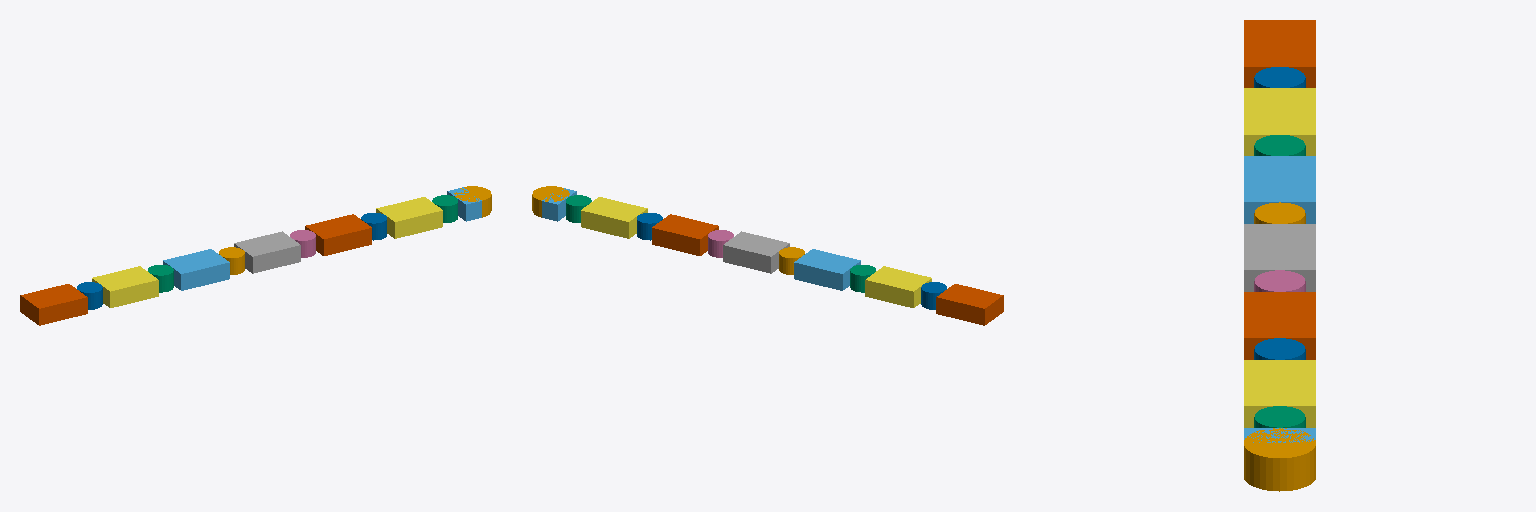
robot.urdf — snake/snake_planar_6_segments:
<?xml version="1.0"?>
<robot name="snake/snake_planar_6_segments">
 <link name="eye">
  <inertial>
    <mass value="1"/>
    <inertia ixx="0.00333333333333" ixy="0" ixz="0" iyy="0.00333333333333" iyz="0" izz="0.0025"/>
  </inertial>
  <visual>
    <origin rpy="0 0 1.57" xyz="0 0 0"/>
    <geometry>
      <cylinder length="0.1" radius="0.1"/>
    </geometry>
  </visual>
  <collision>
    <origin rpy="0 0 1.57" xyz="0 0 0"/>
    <geometry>
      <cylinder length="0.1" radius="0.1"/>
    </geometry>
  </collision>
 </link>

 <link name="body0">
  <inertial>
    <mass value="1"/>
    <inertia ixx="0.00166666666667" ixy="0" ixz="0" iyy="0.00416666666667" iyz="0" izz="0.00416666666667"/>
  </inertial>
  <visual>
    <origin rpy="0 0 0" xyz="0 0 0"/>
    <geometry>
      <box size="0.1 0.2 0.1"/>
    </geometry>
  </visual>
  <collision>
    <origin rpy="0 0 0" xyz="0 0 0"/>
    <geometry>
      <box size="0.1 0.2 0.1"/>
    </geometry>
  </collision>
 </link>

<joint name="joint_fixed_eye_body0" type="fixed">
  <origin rpy="0 0 0" xyz="-0.05 0 0"/>
  <parent link="eye"/>
  <child link="body0"/>
</joint>

 <link name="body1_joint_link">
  <inertial>
    <mass value="1"/>
    <inertia ixx="0.00205833333333" ixy="0" ixz="0" iyy="0.00205833333333" iyz="0" izz="0.001225"/>
  </inertial>
  <visual>
    <origin rpy="0 0 1.57" xyz="0 0 0"/>
    <geometry>
      <cylinder length="0.1" radius="0.07"/>
    </geometry>
  </visual>
  <collision>
    <origin rpy="0 0 1.57" xyz="0 0 0"/>
    <geometry>
      <cylinder length="0.1" radius="0.07"/>
    </geometry>
  </collision>
 </link>

<joint name="joint_fixed_body0_body1_joint_link" type="fixed">
  <origin rpy="0 0 0" xyz="-0.12001 0 0"/>
  <parent link="body0"/>
  <child link="body1_joint_link"/>
</joint>

<joint name="joint_revolute_body1_joint_link_body1_Z" type="revolute">
  <origin rpy="0 0 0" xyz="0 0 0"/>
  <parent link="body1_joint_link"/>
  <child link="body1"/>
  <axis xyz="0 0 1"/>
  <dynamics damping="0.01" friction="0.5"/>
  <limit lower="-1.1780972451" upper="1.1780972451" effort="0.01" velocity="100"/>
</joint>

 <link name="body1">
  <inertial>
    <mass value="1"/>
    <inertia ixx="0.00833333333333" ixy="0" ixz="0" iyy="0.0108333333333" iyz="0" izz="0.00416666666667"/>
  </inertial>
  <visual>
    <origin rpy="0 0 0" xyz="-0.22001 0 0"/>
    <geometry>
      <box size="0.3 0.2 0.1"/>
    </geometry>
  </visual>
  <collision>
    <origin rpy="0 0 0" xyz="-0.22001 0 0"/>
    <geometry>
      <box size="0.3 0.2 0.1"/>
    </geometry>
  </collision>
 </link>

 <link name="body2_joint_link">
  <inertial>
    <mass value="1"/>
    <inertia ixx="0.00205833333333" ixy="0" ixz="0" iyy="0.00205833333333" iyz="0" izz="0.001225"/>
  </inertial>
  <visual>
    <origin rpy="0 0 1.57" xyz="0 0 0"/>
    <geometry>
      <cylinder length="0.1" radius="0.07"/>
    </geometry>
  </visual>
  <collision>
    <origin rpy="0 0 1.57" xyz="0 0 0"/>
    <geometry>
      <cylinder length="0.1" radius="0.07"/>
    </geometry>
  </collision>
 </link>

<joint name="joint_fixed_body1_body2_joint_link" type="fixed">
  <origin rpy="0 0 0" xyz="-0.44001 0 0"/>
  <parent link="body1"/>
  <child link="body2_joint_link"/>
</joint>

<joint name="joint_revolute_body2_joint_link_body2_Z" type="revolute">
  <origin rpy="0 0 0" xyz="0 0 0"/>
  <parent link="body2_joint_link"/>
  <child link="body2"/>
  <axis xyz="0 0 1"/>
  <dynamics damping="0.01" friction="0.5"/>
  <limit lower="-1.1780972451" upper="1.1780972451" effort="0.01" velocity="100"/>
</joint>

 <link name="body2">
  <inertial>
    <mass value="1"/>
    <inertia ixx="0.00833333333333" ixy="0" ixz="0" iyy="0.0108333333333" iyz="0" izz="0.00416666666667"/>
  </inertial>
  <visual>
    <origin rpy="0 0 0" xyz="-0.22001 0 0"/>
    <geometry>
      <box size="0.3 0.2 0.1"/>
    </geometry>
  </visual>
  <collision>
    <origin rpy="0 0 0" xyz="-0.22001 0 0"/>
    <geometry>
      <box size="0.3 0.2 0.1"/>
    </geometry>
  </collision>
 </link>

 <link name="body3_joint_link">
  <inertial>
    <mass value="1"/>
    <inertia ixx="0.00205833333333" ixy="0" ixz="0" iyy="0.00205833333333" iyz="0" izz="0.001225"/>
  </inertial>
  <visual>
    <origin rpy="0 0 1.57" xyz="0 0 0"/>
    <geometry>
      <cylinder length="0.1" radius="0.07"/>
    </geometry>
  </visual>
  <collision>
    <origin rpy="0 0 1.57" xyz="0 0 0"/>
    <geometry>
      <cylinder length="0.1" radius="0.07"/>
    </geometry>
  </collision>
 </link>

<joint name="joint_fixed_body2_body3_joint_link" type="fixed">
  <origin rpy="0 0 0" xyz="-0.44001 0 0"/>
  <parent link="body2"/>
  <child link="body3_joint_link"/>
</joint>

<joint name="joint_revolute_body3_joint_link_body3_Z" type="revolute">
  <origin rpy="0 0 0" xyz="0 0 0"/>
  <parent link="body3_joint_link"/>
  <child link="body3"/>
  <axis xyz="0 0 1"/>
  <dynamics damping="0.01" friction="0.5"/>
  <limit lower="-1.1780972451" upper="1.1780972451" effort="0.01" velocity="100"/>
</joint>

 <link name="body3">
  <inertial>
    <mass value="1"/>
    <inertia ixx="0.00833333333333" ixy="0" ixz="0" iyy="0.0108333333333" iyz="0" izz="0.00416666666667"/>
  </inertial>
  <visual>
    <origin rpy="0 0 0" xyz="-0.22001 0 0"/>
    <geometry>
      <box size="0.3 0.2 0.1"/>
    </geometry>
  </visual>
  <collision>
    <origin rpy="0 0 0" xyz="-0.22001 0 0"/>
    <geometry>
      <box size="0.3 0.2 0.1"/>
    </geometry>
  </collision>
 </link>

 <link name="body4_joint_link">
  <inertial>
    <mass value="1"/>
    <inertia ixx="0.00205833333333" ixy="0" ixz="0" iyy="0.00205833333333" iyz="0" izz="0.001225"/>
  </inertial>
  <visual>
    <origin rpy="0 0 1.57" xyz="0 0 0"/>
    <geometry>
      <cylinder length="0.1" radius="0.07"/>
    </geometry>
  </visual>
  <collision>
    <origin rpy="0 0 1.57" xyz="0 0 0"/>
    <geometry>
      <cylinder length="0.1" radius="0.07"/>
    </geometry>
  </collision>
 </link>

<joint name="joint_fixed_body3_body4_joint_link" type="fixed">
  <origin rpy="0 0 0" xyz="-0.44001 0 0"/>
  <parent link="body3"/>
  <child link="body4_joint_link"/>
</joint>

<joint name="joint_revolute_body4_joint_link_body4_Z" type="revolute">
  <origin rpy="0 0 0" xyz="0 0 0"/>
  <parent link="body4_joint_link"/>
  <child link="body4"/>
  <axis xyz="0 0 1"/>
  <dynamics damping="0.01" friction="0.5"/>
  <limit lower="-1.1780972451" upper="1.1780972451" effort="0.01" velocity="100"/>
</joint>

 <link name="body4">
  <inertial>
    <mass value="1"/>
    <inertia ixx="0.00833333333333" ixy="0" ixz="0" iyy="0.0108333333333" iyz="0" izz="0.00416666666667"/>
  </inertial>
  <visual>
    <origin rpy="0 0 0" xyz="-0.22001 0 0"/>
    <geometry>
      <box size="0.3 0.2 0.1"/>
    </geometry>
  </visual>
  <collision>
    <origin rpy="0 0 0" xyz="-0.22001 0 0"/>
    <geometry>
      <box size="0.3 0.2 0.1"/>
    </geometry>
  </collision>
 </link>

 <link name="body5_joint_link">
  <inertial>
    <mass value="1"/>
    <inertia ixx="0.00205833333333" ixy="0" ixz="0" iyy="0.00205833333333" iyz="0" izz="0.001225"/>
  </inertial>
  <visual>
    <origin rpy="0 0 1.57" xyz="0 0 0"/>
    <geometry>
      <cylinder length="0.1" radius="0.07"/>
    </geometry>
  </visual>
  <collision>
    <origin rpy="0 0 1.57" xyz="0 0 0"/>
    <geometry>
      <cylinder length="0.1" radius="0.07"/>
    </geometry>
  </collision>
 </link>

<joint name="joint_fixed_body4_body5_joint_link" type="fixed">
  <origin rpy="0 0 0" xyz="-0.44001 0 0"/>
  <parent link="body4"/>
  <child link="body5_joint_link"/>
</joint>

<joint name="joint_revolute_body5_joint_link_body5_Z" type="revolute">
  <origin rpy="0 0 0" xyz="0 0 0"/>
  <parent link="body5_joint_link"/>
  <child link="body5"/>
  <axis xyz="0 0 1"/>
  <dynamics damping="0.01" friction="0.5"/>
  <limit lower="-1.1780972451" upper="1.1780972451" effort="0.01" velocity="100"/>
</joint>

 <link name="body5">
  <inertial>
    <mass value="1"/>
    <inertia ixx="0.00833333333333" ixy="0" ixz="0" iyy="0.0108333333333" iyz="0" izz="0.00416666666667"/>
  </inertial>
  <visual>
    <origin rpy="0 0 0" xyz="-0.22001 0 0"/>
    <geometry>
      <box size="0.3 0.2 0.1"/>
    </geometry>
  </visual>
  <collision>
    <origin rpy="0 0 0" xyz="-0.22001 0 0"/>
    <geometry>
      <box size="0.3 0.2 0.1"/>
    </geometry>
  </collision>
 </link>

 <link name="body6_joint_link">
  <inertial>
    <mass value="1"/>
    <inertia ixx="0.00205833333333" ixy="0" ixz="0" iyy="0.00205833333333" iyz="0" izz="0.001225"/>
  </inertial>
  <visual>
    <origin rpy="0 0 1.57" xyz="0 0 0"/>
    <geometry>
      <cylinder length="0.1" radius="0.07"/>
    </geometry>
  </visual>
  <collision>
    <origin rpy="0 0 1.57" xyz="0 0 0"/>
    <geometry>
      <cylinder length="0.1" radius="0.07"/>
    </geometry>
  </collision>
 </link>

<joint name="joint_fixed_body5_body6_joint_link" type="fixed">
  <origin rpy="0 0 0" xyz="-0.44001 0 0"/>
  <parent link="body5"/>
  <child link="body6_joint_link"/>
</joint>

<joint name="joint_revolute_body6_joint_link_body6_Z" type="revolute">
  <origin rpy="0 0 0" xyz="0 0 0"/>
  <parent link="body6_joint_link"/>
  <child link="body6"/>
  <axis xyz="0 0 1"/>
  <dynamics damping="0.01" friction="0.5"/>
  <limit lower="-1.1780972451" upper="1.1780972451" effort="0.01" velocity="100"/>
</joint>

 <link name="body6">
  <inertial>
    <mass value="1"/>
    <inertia ixx="0.00833333333333" ixy="0" ixz="0" iyy="0.0108333333333" iyz="0" izz="0.00416666666667"/>
  </inertial>
  <visual>
    <origin rpy="0 0 0" xyz="-0.22001 0 0"/>
    <geometry>
      <box size="0.3 0.2 0.1"/>
    </geometry>
  </visual>
  <collision>
    <origin rpy="0 0 0" xyz="-0.22001 0 0"/>
    <geometry>
      <box size="0.3 0.2 0.1"/>
    </geometry>
  </collision>
 </link>

  <klampt package_root="../../.." default_acc_max="4" >
  </klampt>
</robot>

--- What the picture shows (computed from the rendered views, not written in the file) ---
Views: 3 orthographic renders of the robot side by side, from view 1: azimuth 30°, elevation 25°; view 2: azimuth 150°, elevation 25°; view 3: azimuth 270°, elevation 25°.
Model snake/snake_planar_6_segments with 14 links and 13 joints (6 revolute, 7 fixed), rooted at eye, posed every joint at zero.
Links seen in each view (by area): view 1: body6, body1, body2, body3, body4, body5, eye, body0; view 2: body6, body1, body2, body3, body4, body5, eye, body0; view 3: body6, body5, body4, body3, body2, body1, eye, body1_joint_link, body2_joint_link, body3_joint_link, body4_joint_link, body5_joint_link (+1 smaller).
Boxes of the visible links, x1,y1,x2,y2 form: body6: (20,284,87,325); body1: (376,197,442,238); body2: (305,214,371,255); body3: (234,231,300,273); body4: (163,249,229,290); body5: (92,266,158,307); eye: (454,186,491,217); body0: (447,187,481,221); body6: (936,284,1003,325); body1: (581,197,647,238); body2: (652,214,718,255); body3: (723,231,789,273); body4: (794,249,860,290); body5: (865,266,931,307); eye: (532,186,569,217); body0: (542,188,576,221); body6: (1244,20,1315,87); body5: (1244,88,1315,155); body4: (1244,156,1315,223); body3: (1244,224,1315,291); body2: (1244,292,1315,359); body1: (1244,360,1315,427); eye: (1244,428,1315,491); body1_joint_link: (1254,406,1305,427); body2_joint_link: (1254,338,1305,359); body3_joint_link: (1254,270,1305,291); body4_joint_link: (1254,202,1305,223); body5_joint_link: (1254,135,1305,155).
Size in the robot's own frame: 2.84 by 0.2 by 0.1 metres.
Geometry: primitives only (box / cylinder / sphere), no mesh files.